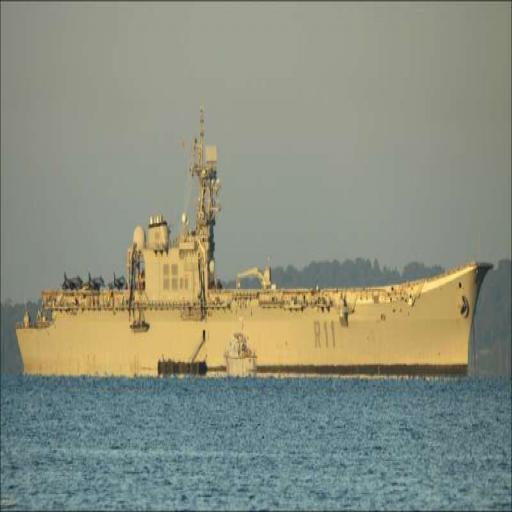Portanaves: (12, 102, 499, 384)
